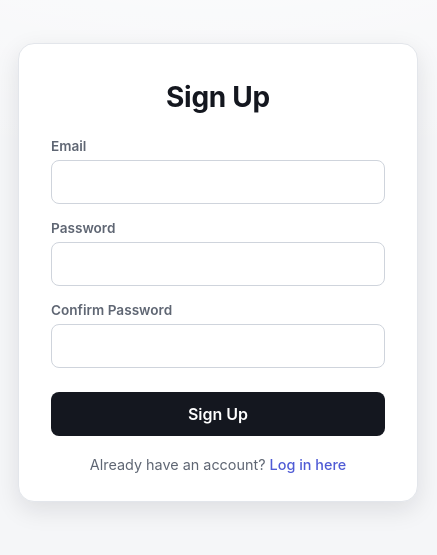
Test: a password mismatch shows an alert and sends no request
Step 1. Type "a@b.c" into the field labelled "Email" → coordinates (218, 182), box [51,160,385,204]
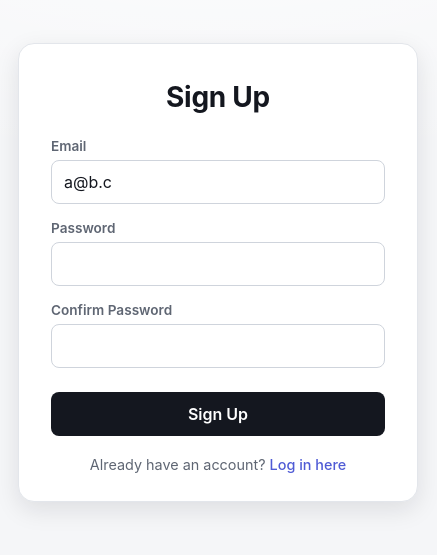
Step 2. Type "secret1" into the password field labelled "Password" → coordinates (218, 264), box [51,242,385,286]
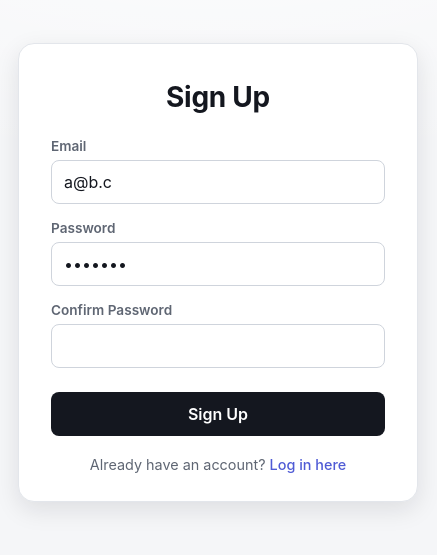
Step 3. Type "secret2" into the password field labelled "Confirm Password" → coordinates (218, 346), box [51,324,385,368]
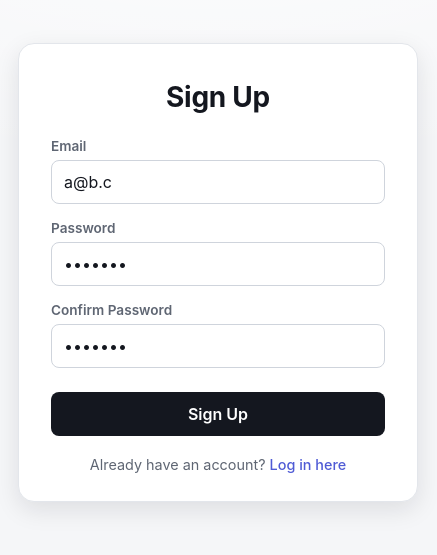
Step 4. Click the button "Sign Up" → coordinates (218, 414), box [51,392,385,436]
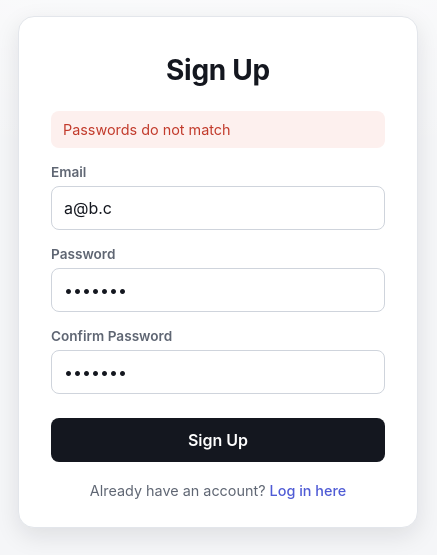
Result: the message reads "Passwords do not match" at [63,121,231,138]
